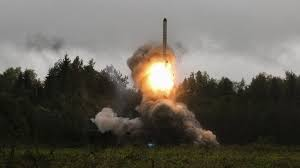ten_lua: (160, 16, 171, 62)
